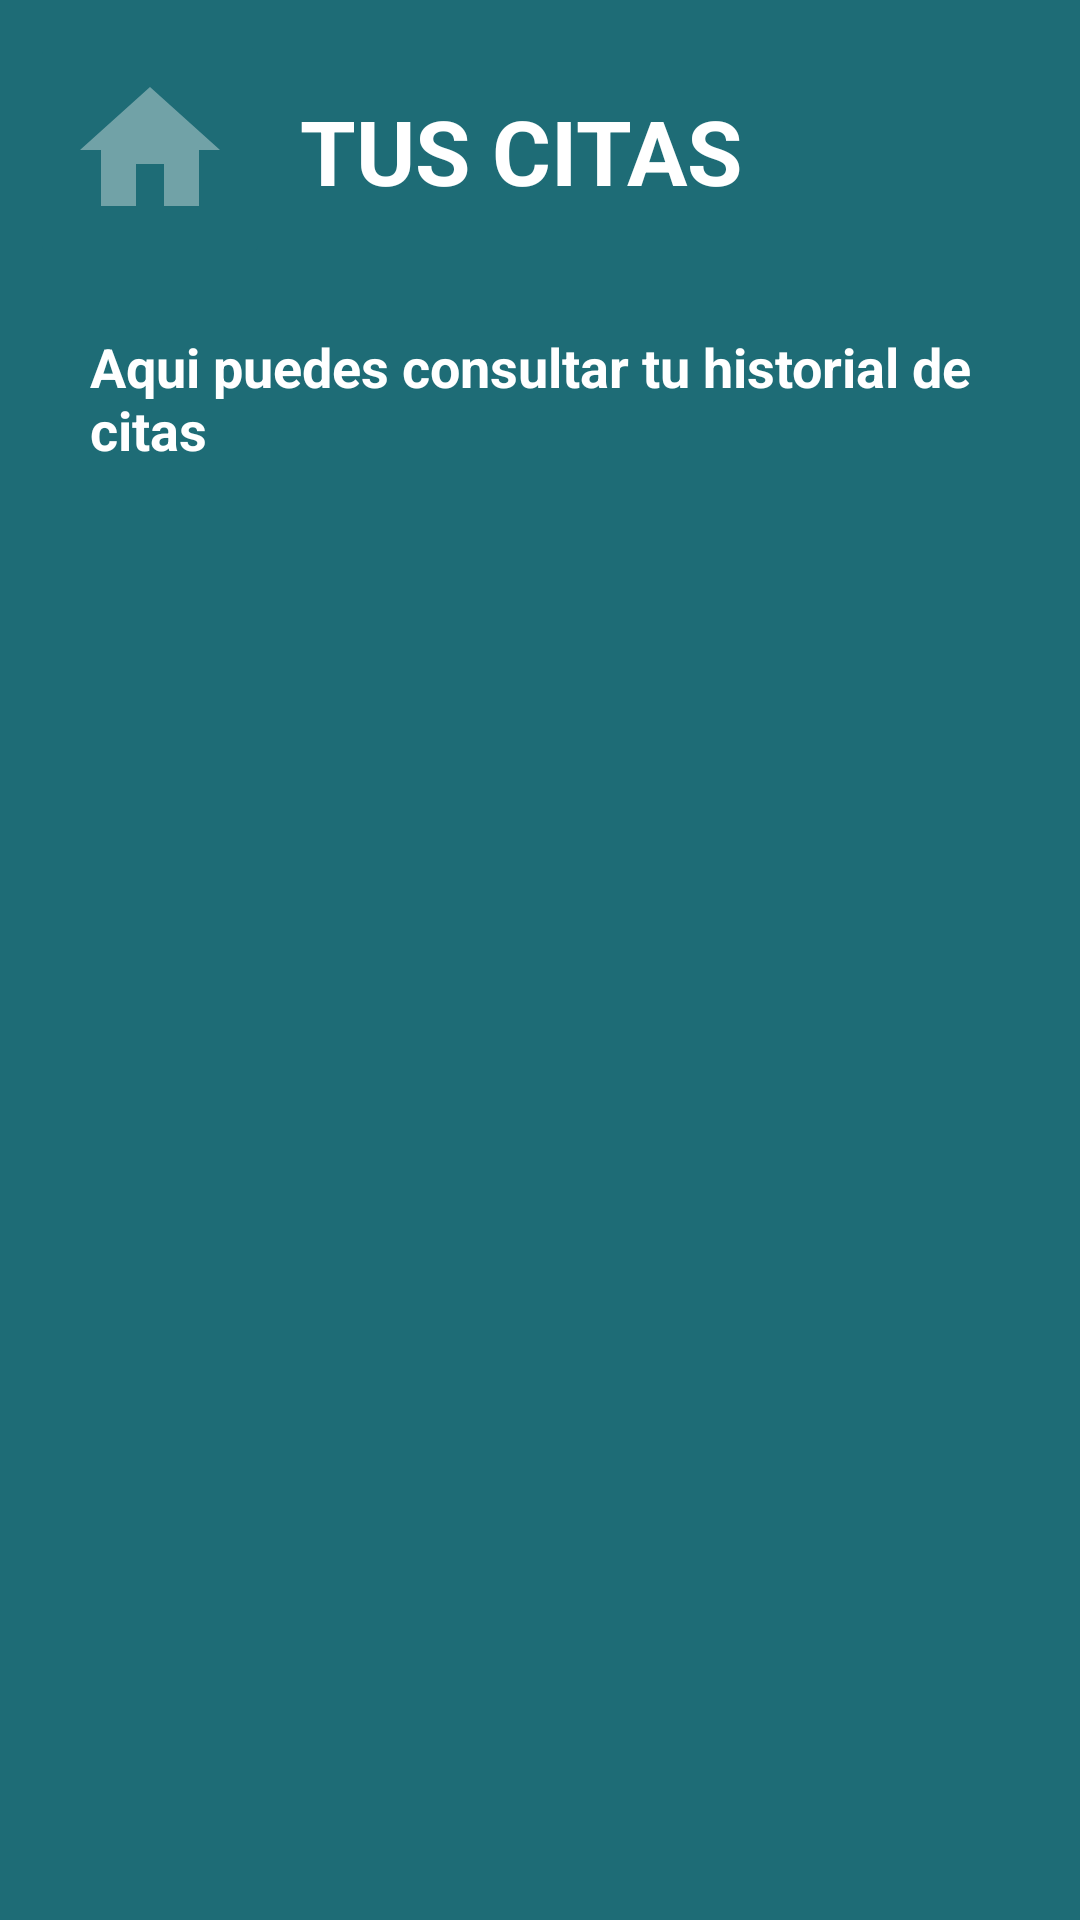

Locate icon controls on the screen. Image size 1080w x 1920h, boxes as (x1, y1, x2, y2).
home: (80, 87, 220, 206)
